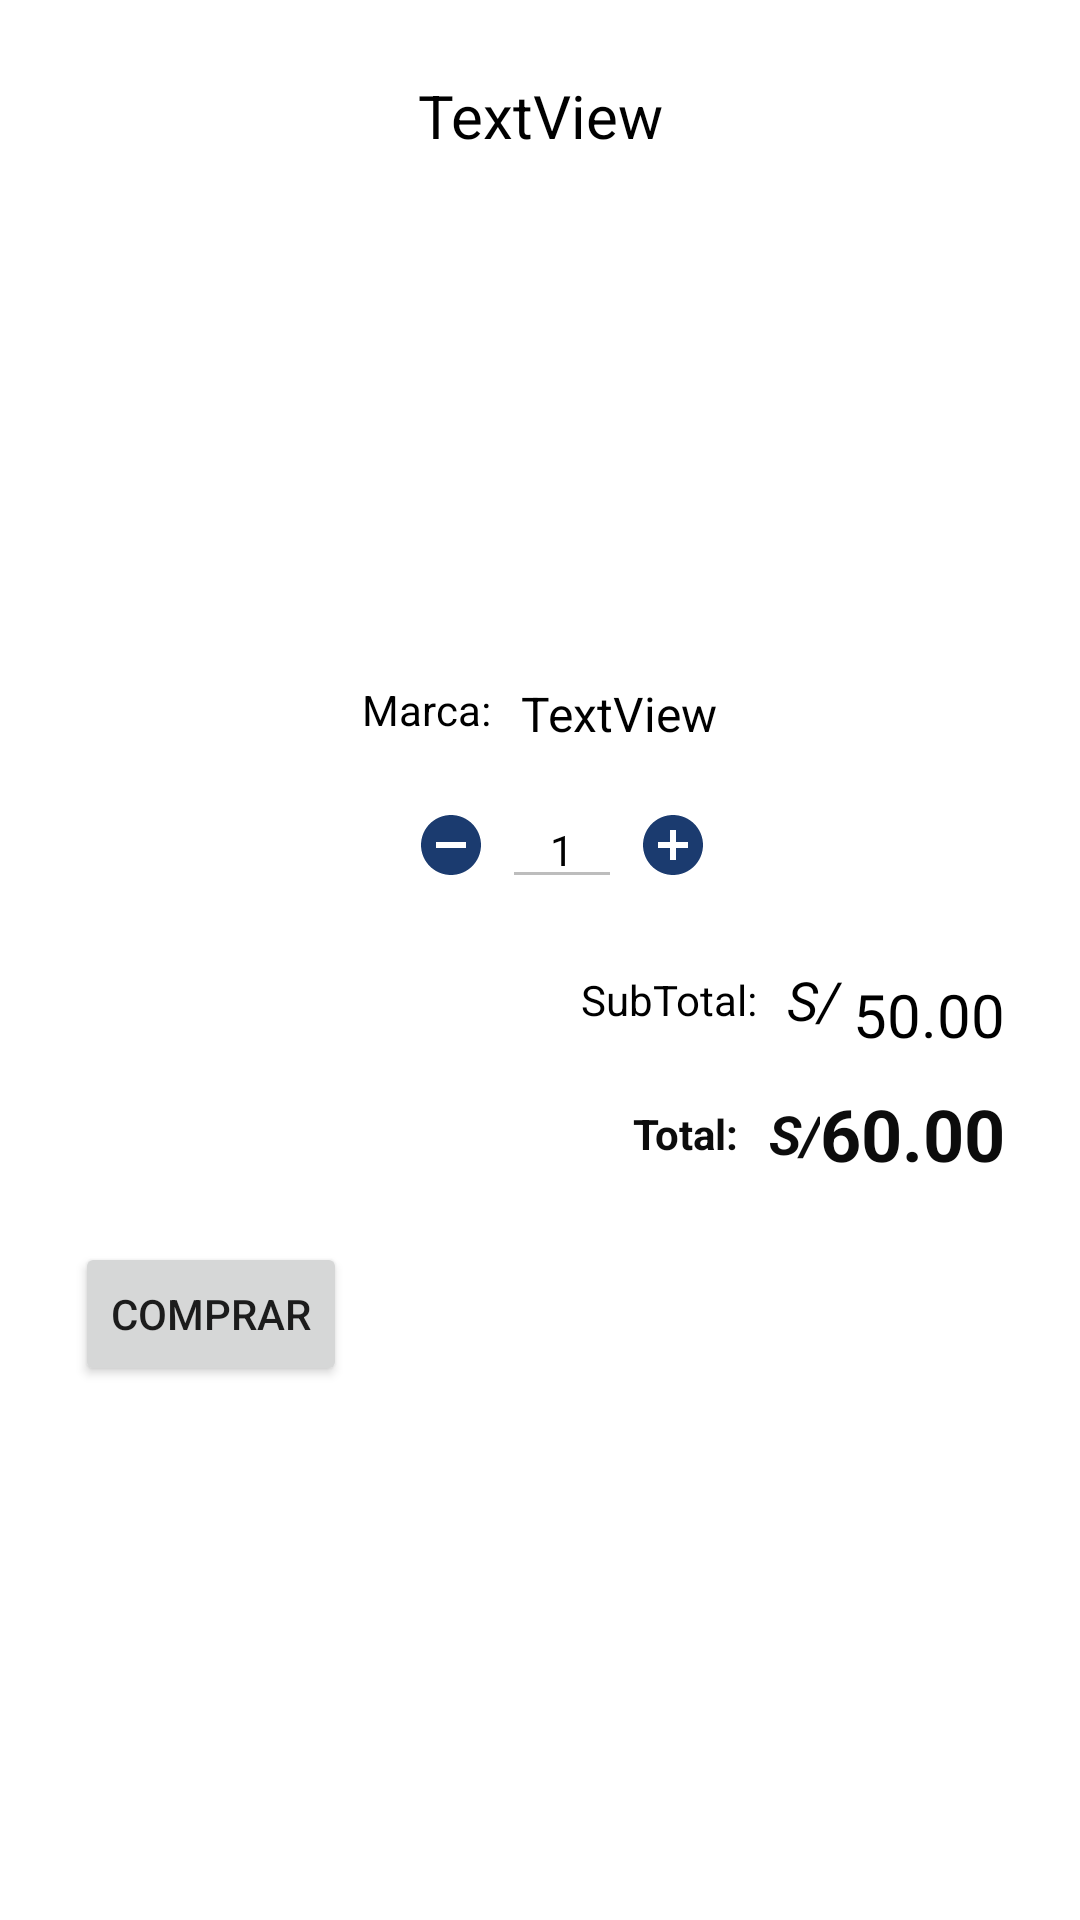

Screen size 1080 x 1920. Icon name, then its center in pixels as point (x, y):
add circle: point (673, 845)
remove circle: point (451, 845)
